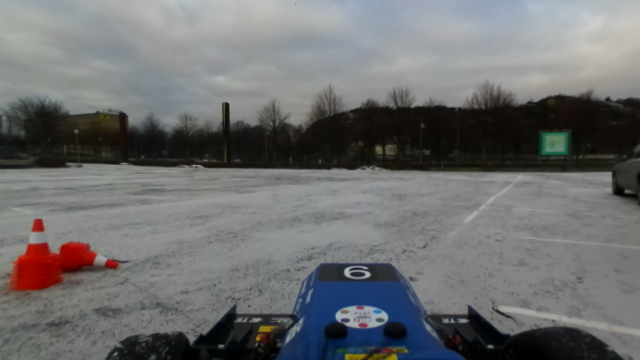red: (10, 220, 61, 295)
